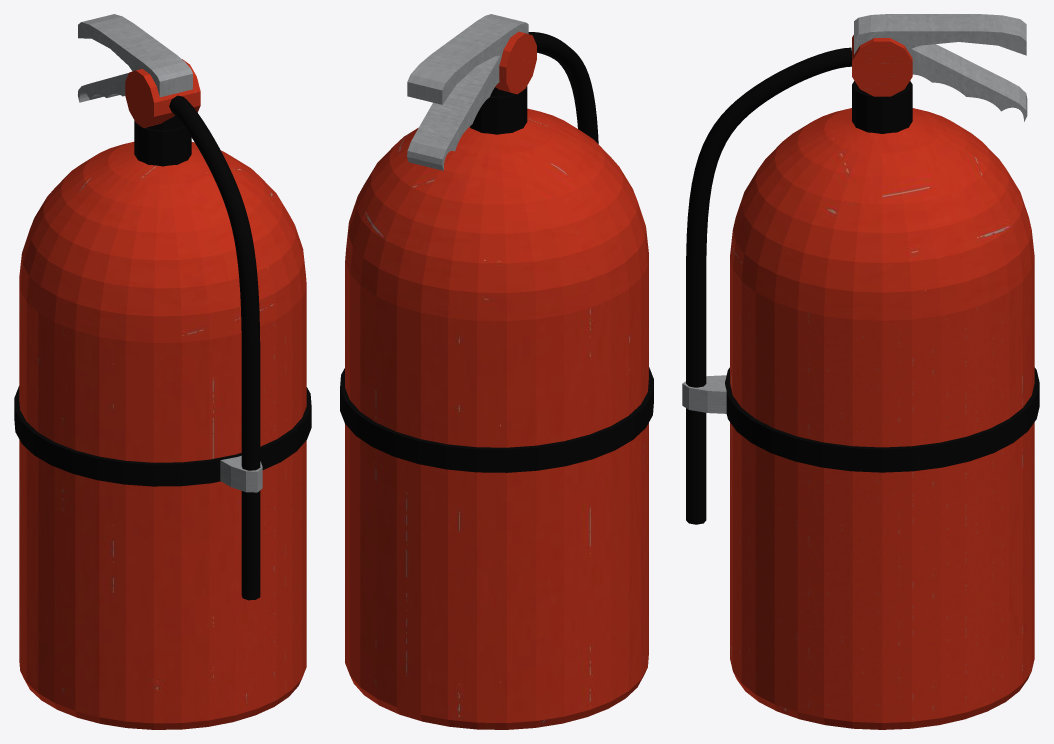
File: Extinguisher.glb
The picture shows the model from 3 angles, left to right: view 1: azimuth 30°, elevation 25°; view 2: azimuth 150°, elevation 25°; view 3: azimuth 270°, elevation 25°; orthographic projection. The views are drawn at different scales.
Parts seen in each view (by area): view 1: Cylinder, Sphere, BézierCurve, Cylinder.001, Cube.001, Cylinder.003, Cylinder.002, Cylinder.004, Cube; view 2: Cylinder, Sphere, Cylinder.001, Cube.001, Cube, BézierCurve, Cylinder.002, Cylinder.003; view 3: Cylinder, Sphere, BézierCurve, Cylinder.001, Cube.001, Cube, Cylinder.003, Cylinder.002, Cylinder.004.
Part boxes in pixels (<box>): Cylinder: <box>19,282,306,729</box>; Sphere: <box>19,142,306,342</box>; BézierCurve: <box>169,95,260,600</box>; Cylinder.001: <box>14,386,311,486</box>; Cube.001: <box>78,14,192,97</box>; Cylinder.003: <box>125,59,200,128</box>; Cylinder.002: <box>134,116,191,166</box>; Cylinder.004: <box>220,455,262,492</box>; Cube: <box>78,73,128,102</box>; Cylinder: <box>345,254,648,729</box>; Sphere: <box>345,108,648,321</box>; Cylinder.001: <box>340,367,653,472</box>; Cube.001: <box>407,14,528,104</box>; Cube: <box>407,51,502,170</box>; BézierCurve: <box>528,32,598,143</box>; Cylinder.002: <box>470,86,527,134</box>; Cylinder.003: <box>495,31,536,94</box>; Cylinder: <box>730,257,1034,729</box>; Sphere: <box>730,108,1034,320</box>; BézierCurve: <box>686,47,851,524</box>; Cylinder.001: <box>725,367,1039,472</box>; Cube.001: <box>854,14,1026,55</box>; Cube: <box>905,44,1027,121</box>; Cylinder.003: <box>852,35,912,96</box>; Cylinder.002: <box>852,81,912,133</box>; Cylinder.004: <box>682,375,726,413</box>.
Size of the model in its own units: 0.155 by 0.352 by 0.176.
Materials: 4 (3 with a texture image).
